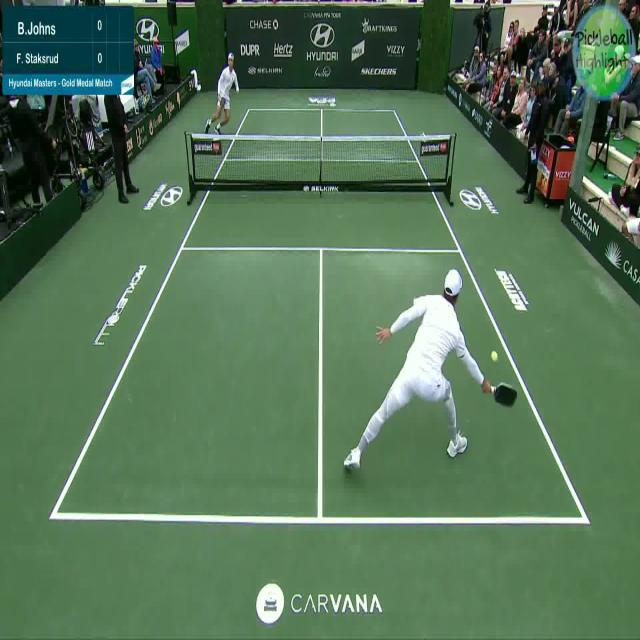ball: (490, 346, 500, 364)
